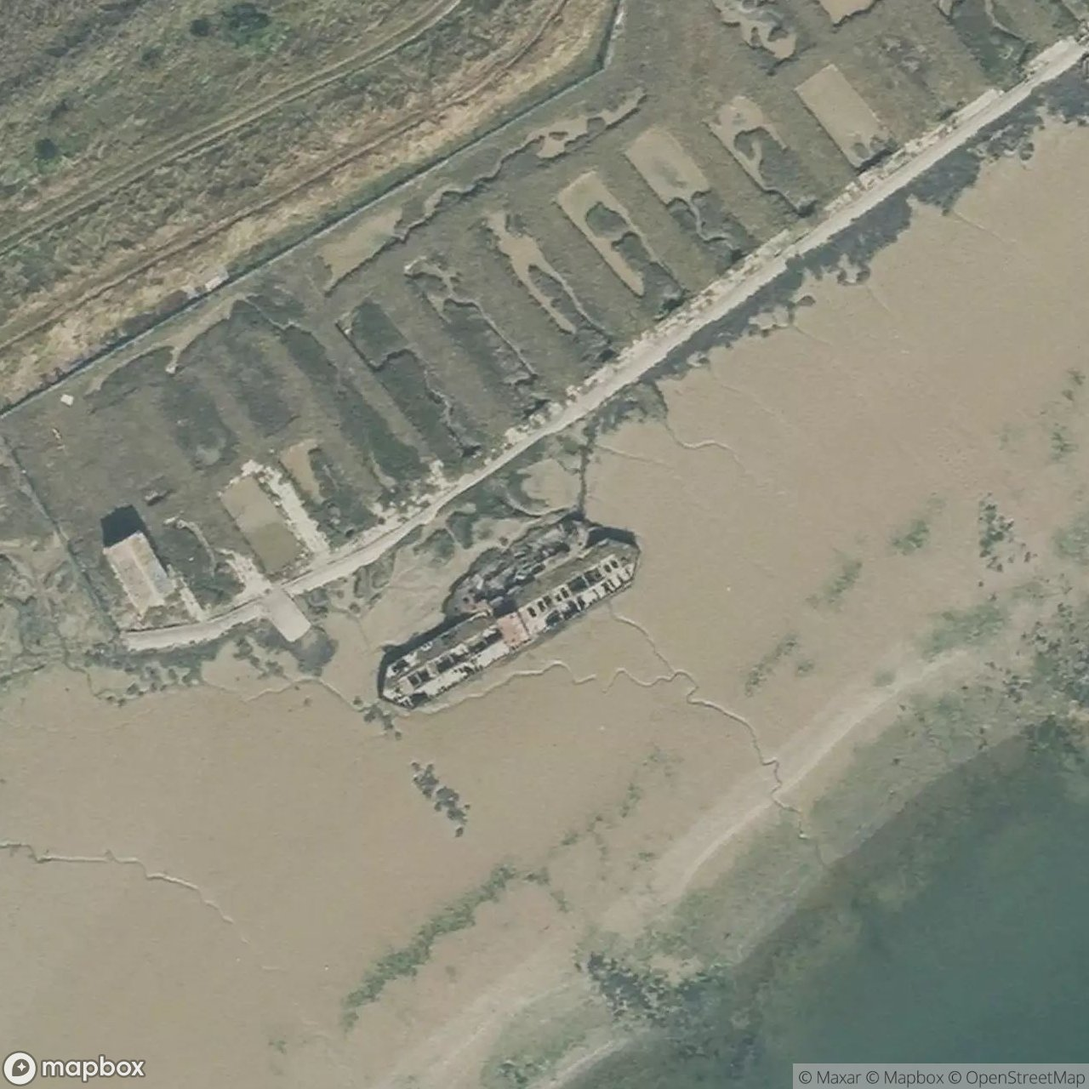Wreck: (337, 506, 679, 715)
